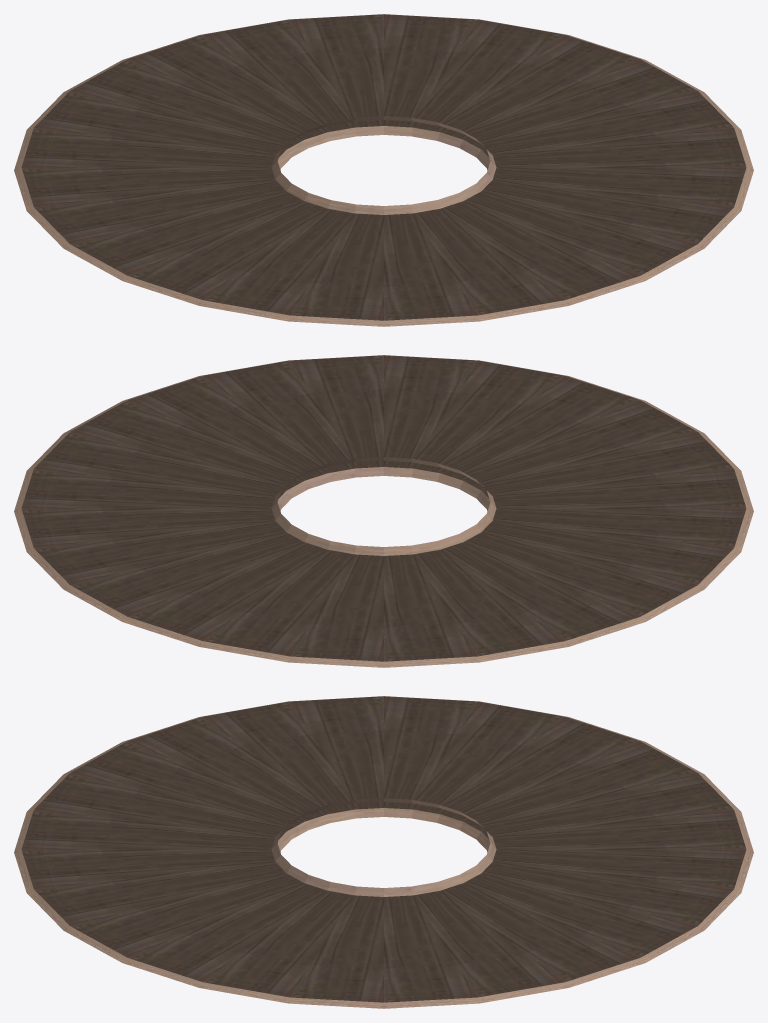
File: love-death-disc-art.glb
3 renders of one model, top to bottom at view 1: azimuth 30°, elevation 25°; view 2: azimuth 150°, elevation 25°; view 3: azimuth 270°, elevation 25°, orthographic.
Parts seen in each view (by area): view 1: LoveDeath_Disc_Art; view 2: LoveDeath_Disc_Art; view 3: LoveDeath_Disc_Art.
Part boxes in pixels (x1,y1,x2,y2): LoveDeath_Disc_Art: (14, 14, 753, 326); LoveDeath_Disc_Art: (14, 355, 753, 667); LoveDeath_Disc_Art: (14, 696, 753, 1008).
Bounding box in the file's own units: 9 × 0.2527 × 9.
1 material, 1 textured.
